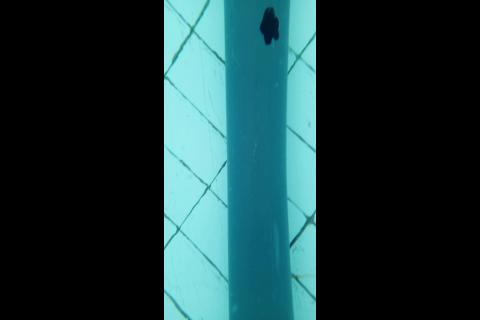kebocoran: (260, 6, 279, 45)
